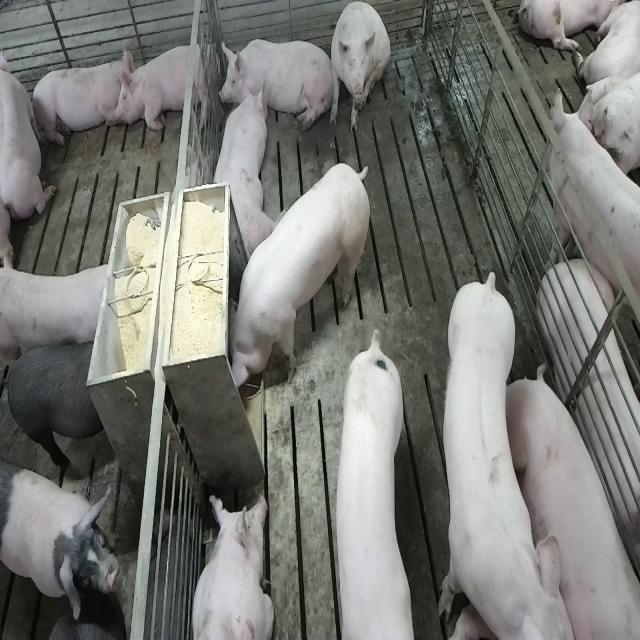Feeding: (229, 161, 375, 391)
Lateral_lying: (508, 371, 640, 640), (538, 260, 640, 590)
Sitting: (329, 1, 390, 136)
Standing: (436, 266, 570, 637), (328, 323, 414, 636), (549, 93, 640, 335), (2, 466, 122, 622), (2, 334, 108, 476), (2, 255, 120, 368)
Sternal_lying: (190, 490, 274, 640), (209, 85, 270, 262), (224, 32, 332, 131), (2, 34, 56, 224), (29, 51, 131, 149), (118, 36, 214, 135)
